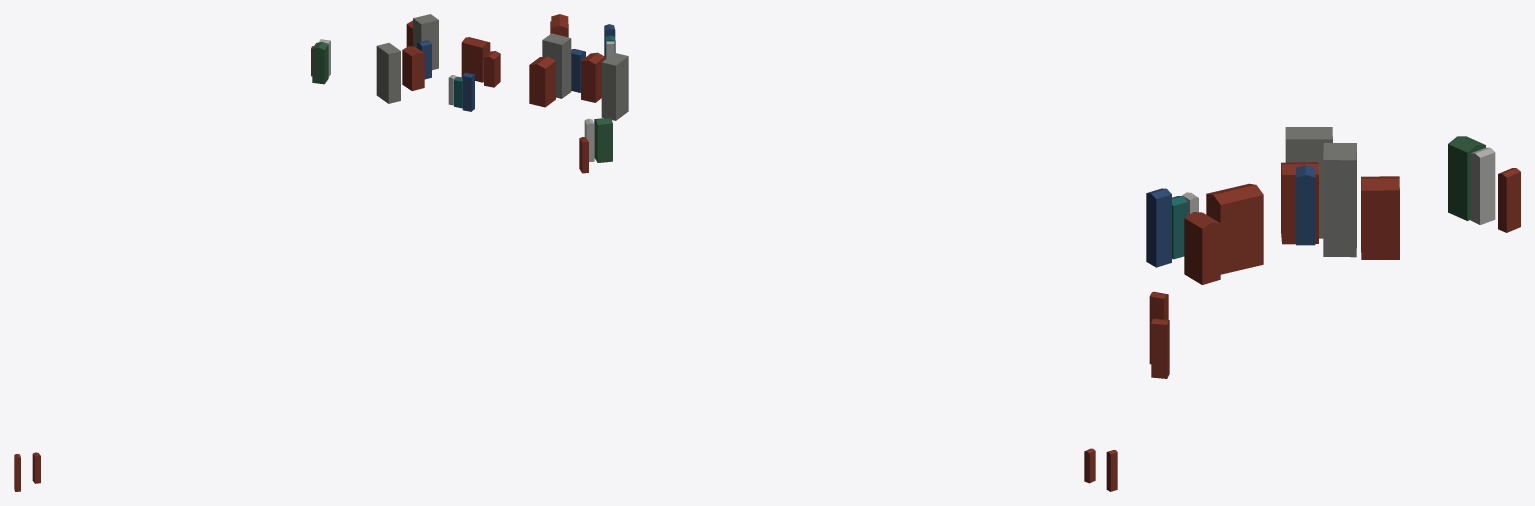
File: near-15-27370-14870.3cfef1c1.glb
The picture shows the model from 3 angles, left to right: view 1: azimuth 30°, elevation 25°; view 2: azimuth 150°, elevation 25°; view 3: azimuth 270°, elevation 25°; orthographic projection. The views are drawn at different scales.
Size of the model in its own units: 248 by 156 by 80.97.
